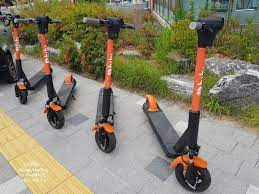kick_board: (143, 17, 224, 191), (83, 16, 134, 152)
kick_handler: (189, 17, 224, 41), (82, 16, 134, 30), (14, 16, 60, 24)
kick_neck: (186, 48, 205, 145), (40, 36, 55, 98), (12, 29, 25, 81), (105, 39, 114, 111)
kick_wheel: (174, 156, 211, 193), (95, 128, 115, 152), (47, 106, 64, 128), (16, 84, 27, 104)
